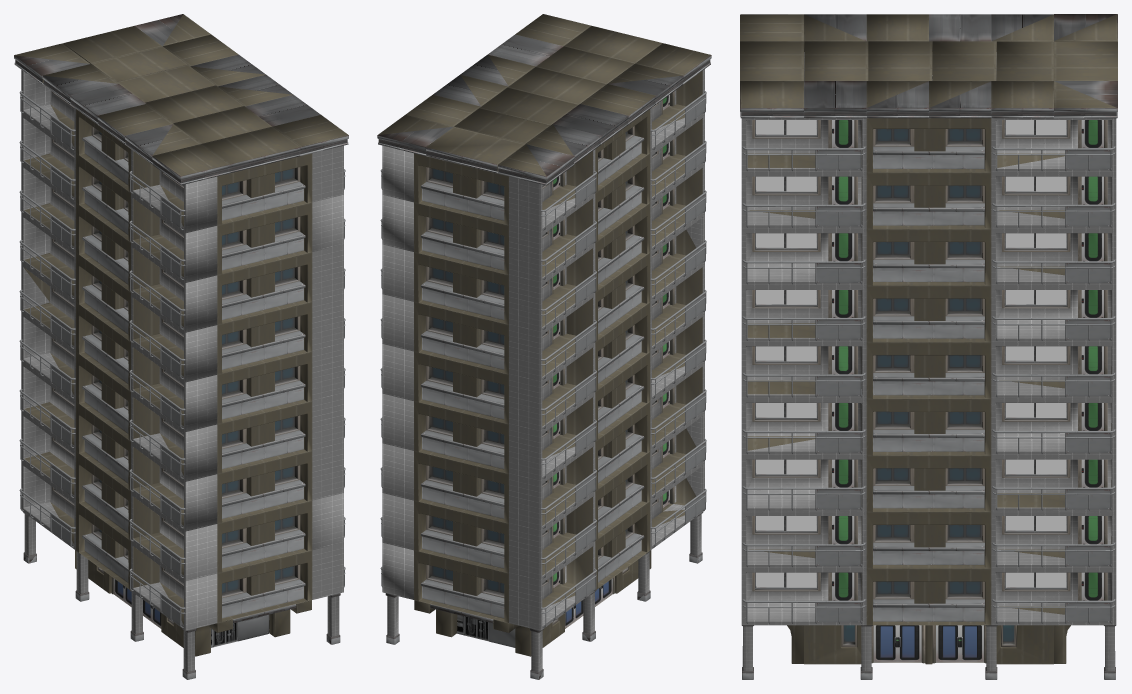
The picture shows the model from 3 angles, left to right: view 1: azimuth 30°, elevation 25°; view 2: azimuth 150°, elevation 25°; view 3: azimuth 270°, elevation 25°; orthographic projection. The views are drawn at different scales.
Visible parts, largest first — view 1: SM_Balcony6x3_8; view 2: SM_Balcony6x3_8; view 3: SM_Balcony6x3_8.
Part boxes in pixels (x1,y1,x2,y2): SM_Balcony6x3_8: [14, 14, 348, 679]; SM_Balcony6x3_8: [377, 14, 711, 679]; SM_Balcony6x3_8: [740, 14, 1117, 679].
Bounding box in the file's own units: 10.7 × 30.56 × 18.15.
